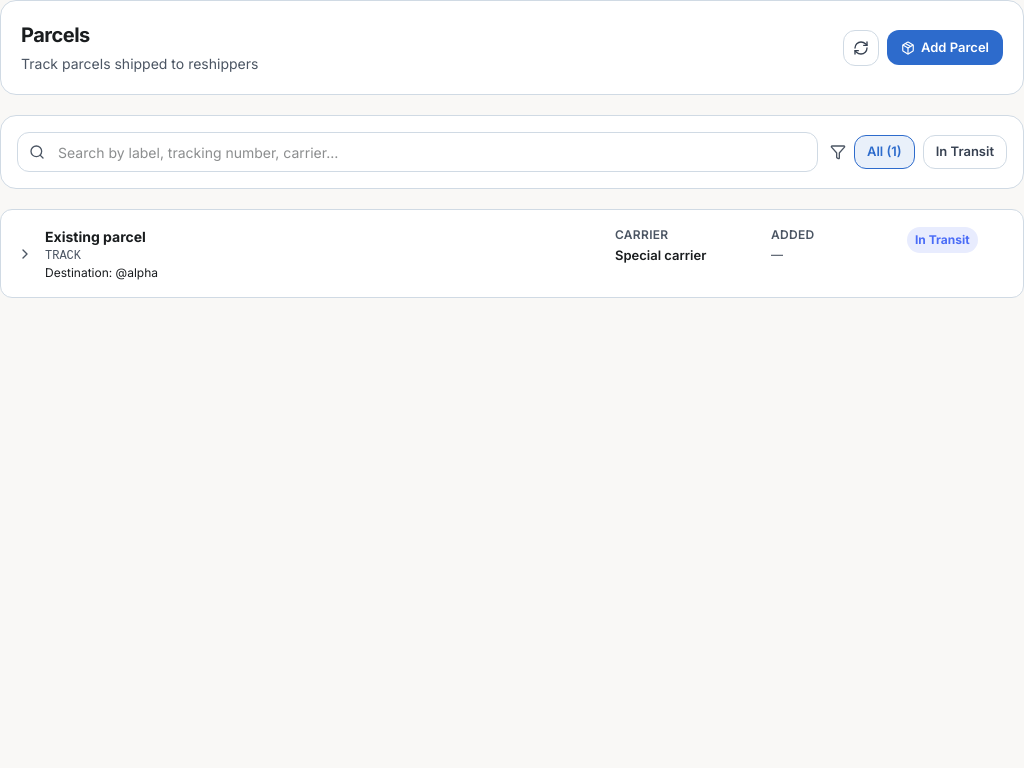
Test: edits the saved reshipper, preserves item quantities and tracking status, and shows failures
Click the button that starts with "Existing parcel": (95, 236) top-left (1, 210), bottom-right (1023, 297)
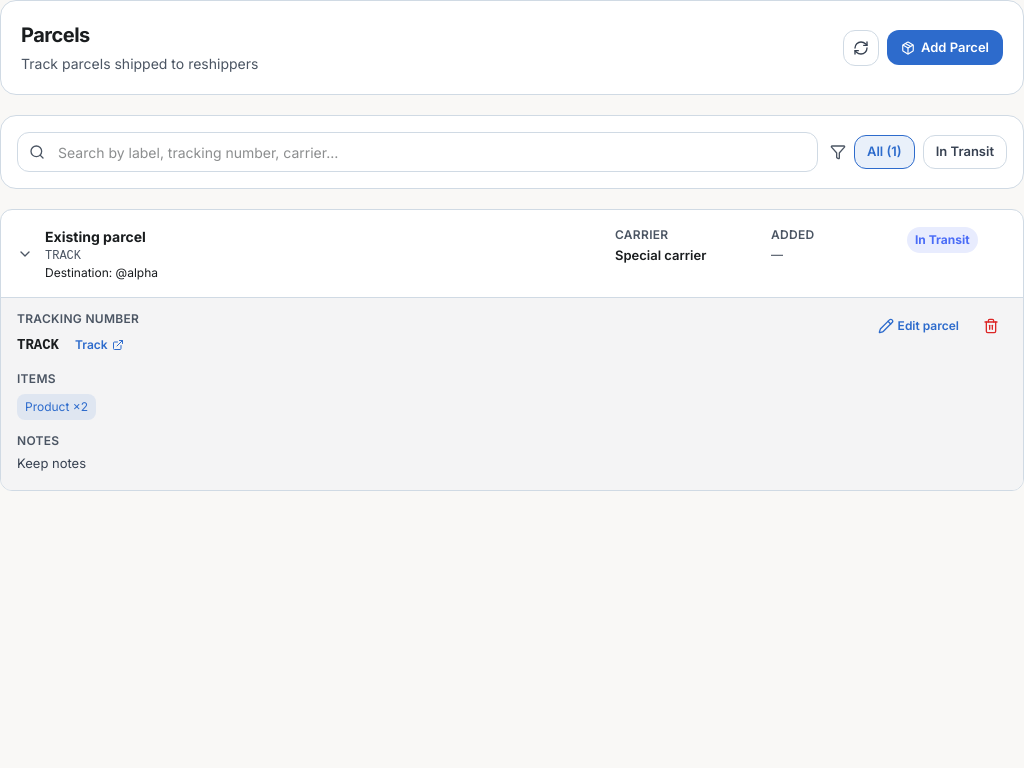
Now the button "Edit parcel" is shown
Click the button "Edit parcel": (918, 326) top-left (870, 310), bottom-right (967, 342)
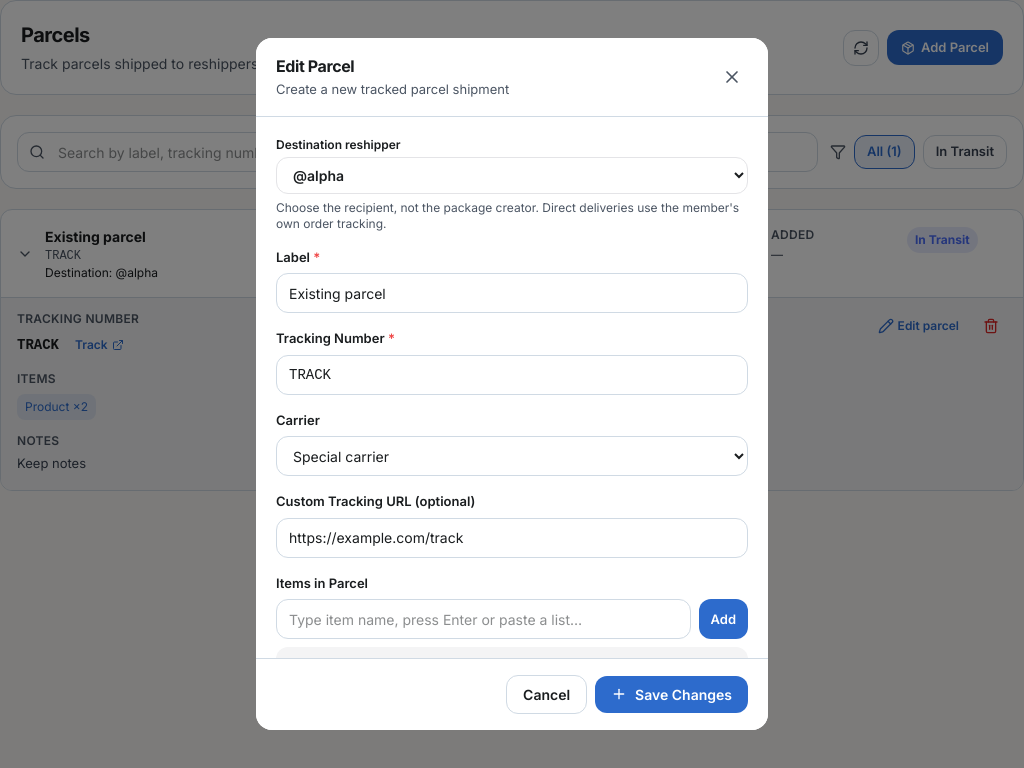
Now the dropdown with test id "select-parcel-destination" shows "@alpha"
Now the dropdown with test id "select-parcel-destination" is shown
Select "@beta" in the dropdown with test id "select-parcel-destination": (512, 175) top-left (276, 157), bottom-right (748, 194)
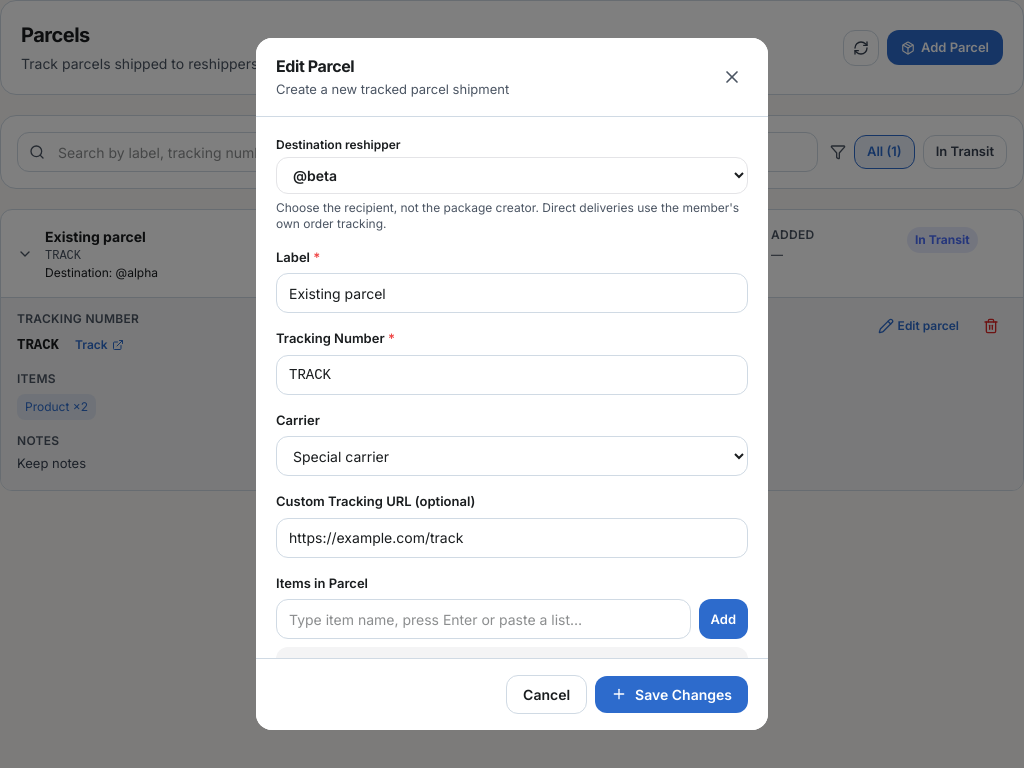
Now the button "Save Changes" is shown
Click the button "Save Changes": (672, 694) top-left (595, 676), bottom-right (748, 713)
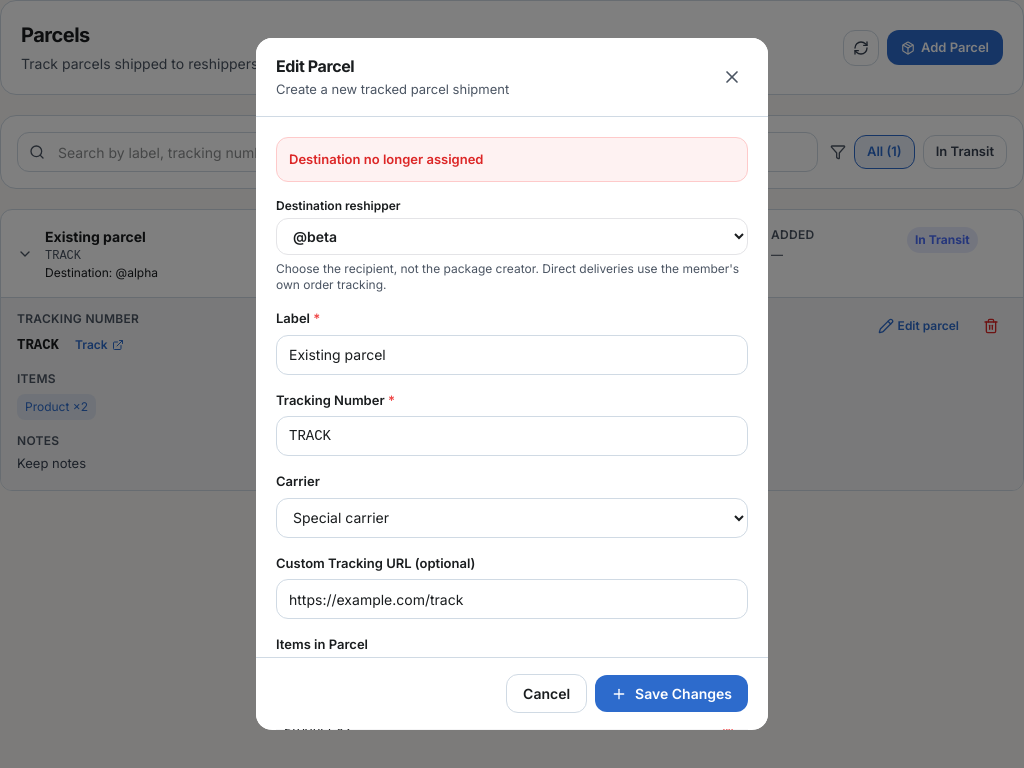
Now the button "Save Changes" is shown
Now the text "Destination no longer assigned" is shown, box top-left (276, 137), bottom-right (748, 182)
Click the button "Save Changes": (672, 694) top-left (595, 676), bottom-right (748, 713)
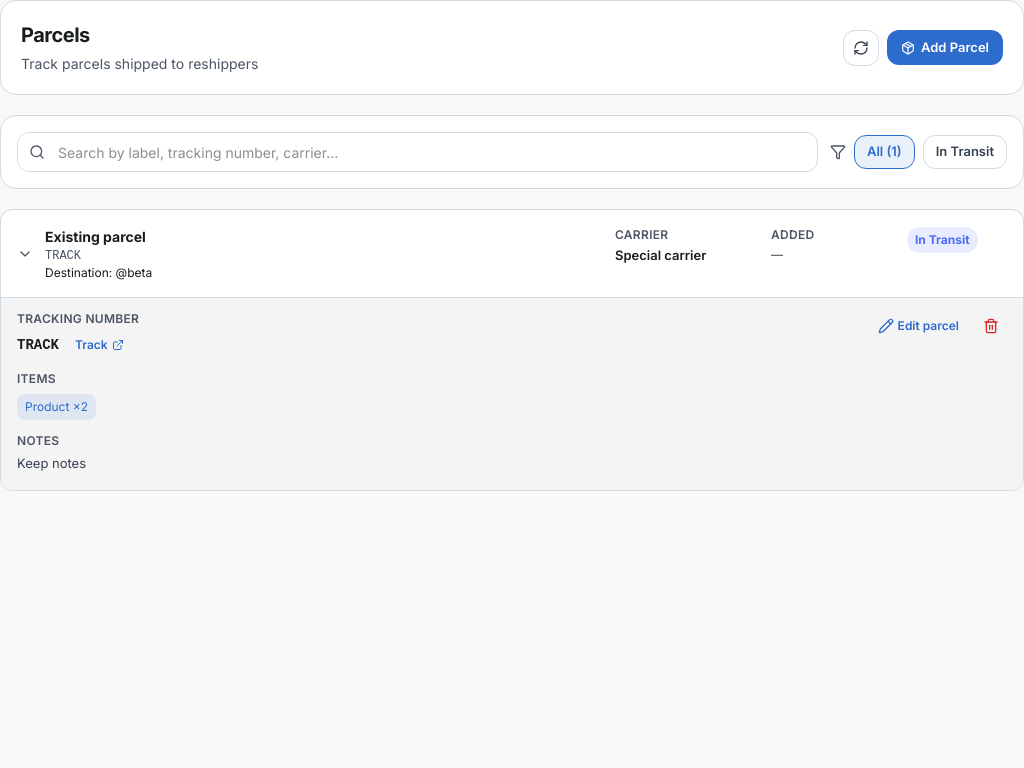
Now the button "Edit parcel" is shown
Now the text "Destination: @beta" is shown, box top-left (45, 265), bottom-right (152, 280)
Click the button "Edit parcel": (918, 326) top-left (870, 310), bottom-right (967, 342)
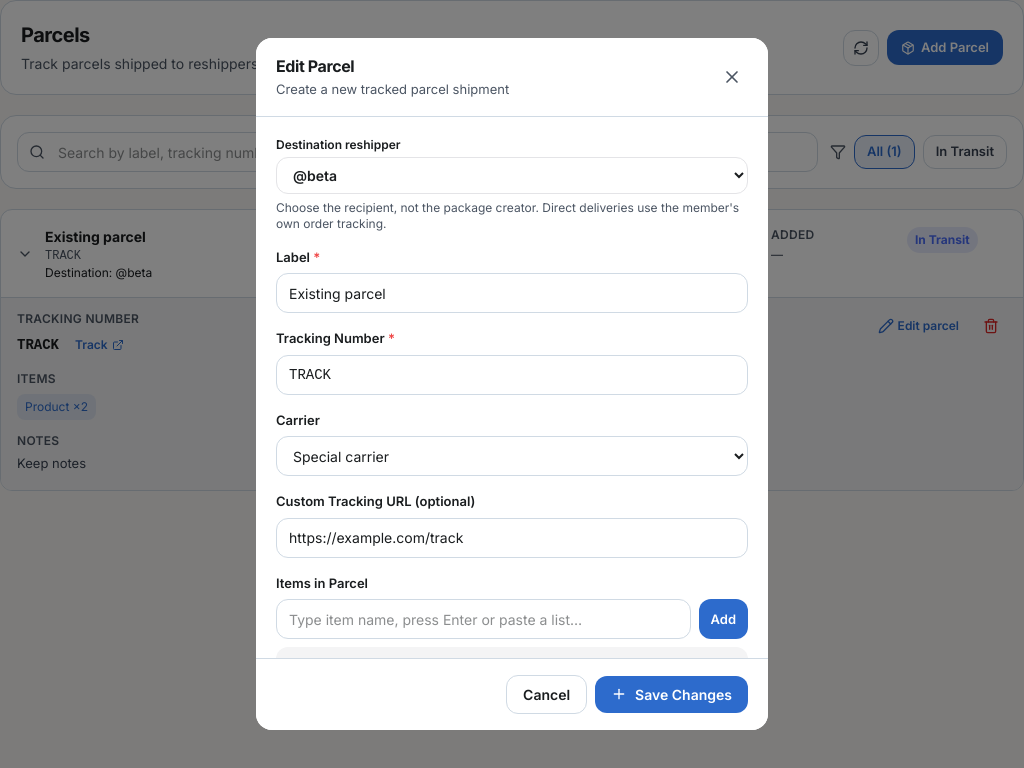
Now the dropdown with test id "select-parcel-destination" shows "@beta", box top-left (276, 157), bottom-right (748, 194)
